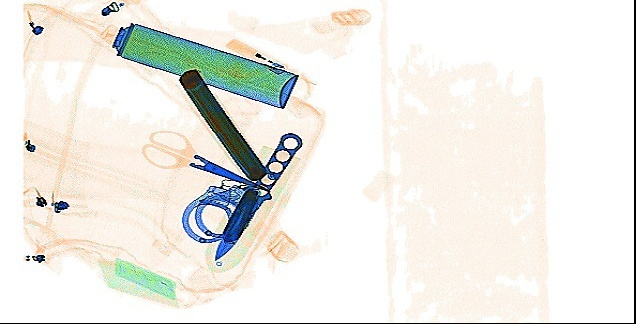handcuffs: (181, 172, 264, 242)
knife: (213, 130, 301, 261), (219, 184, 259, 244)
lighter: (224, 36, 288, 73)
pressure: (98, 21, 298, 108)
scissors: (141, 128, 270, 192)
